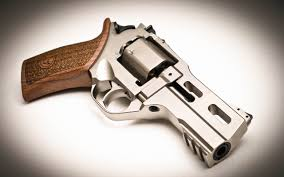gun: (17, 16, 251, 167)
